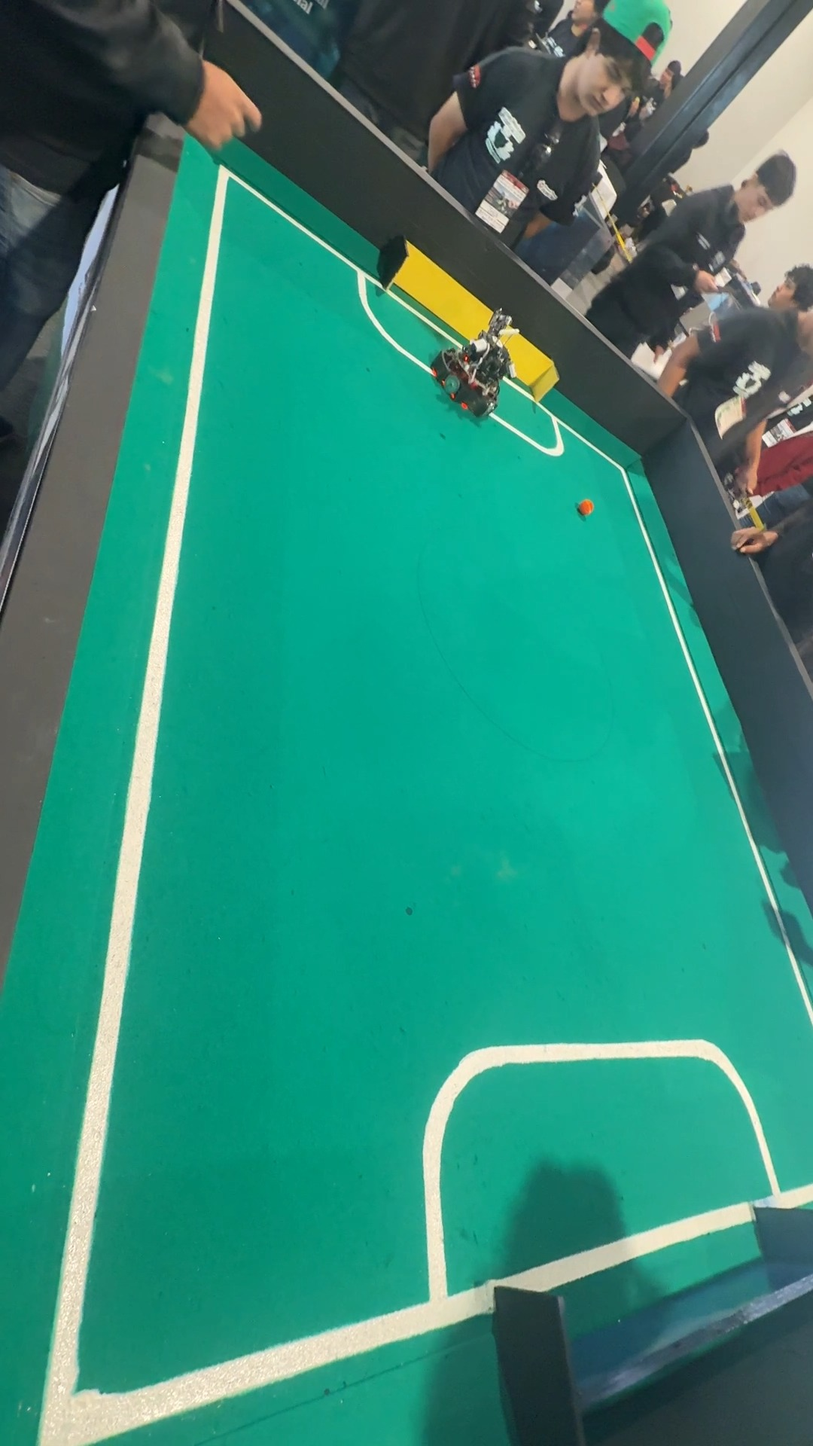Robot: (422, 299, 514, 431)
pelota: (571, 496, 599, 523)
